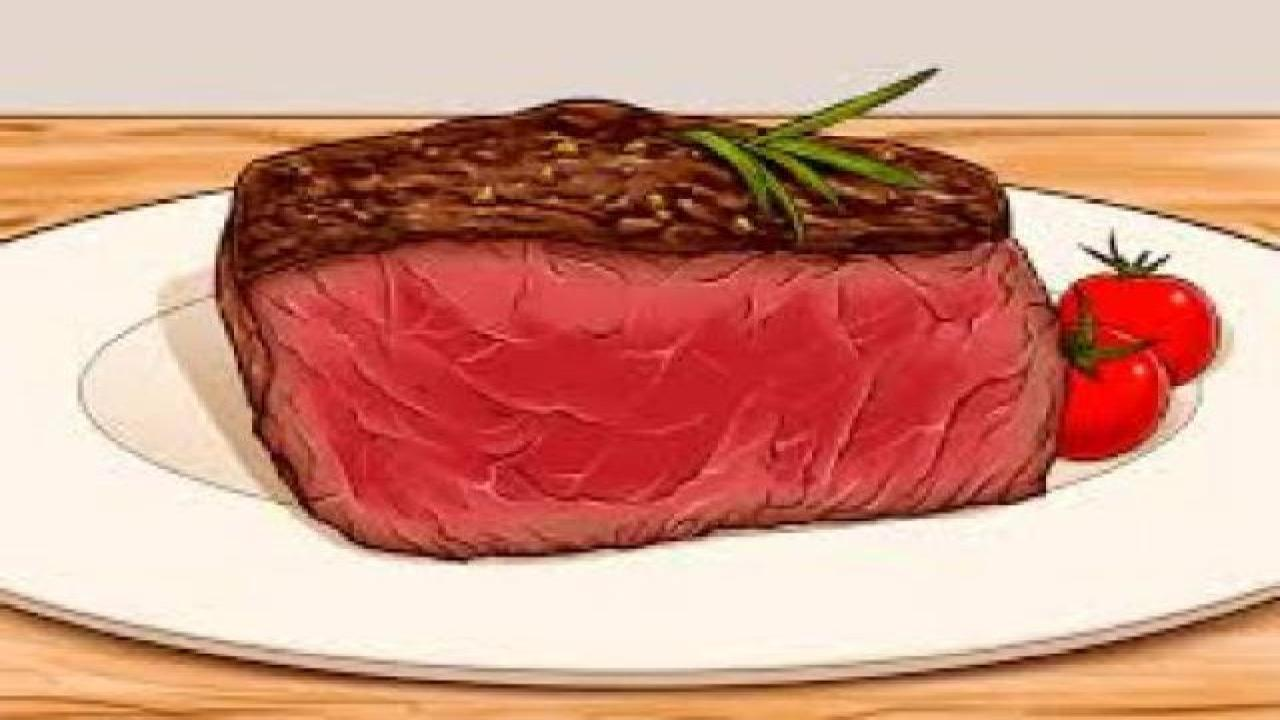raw: (220, 134, 1129, 570)
